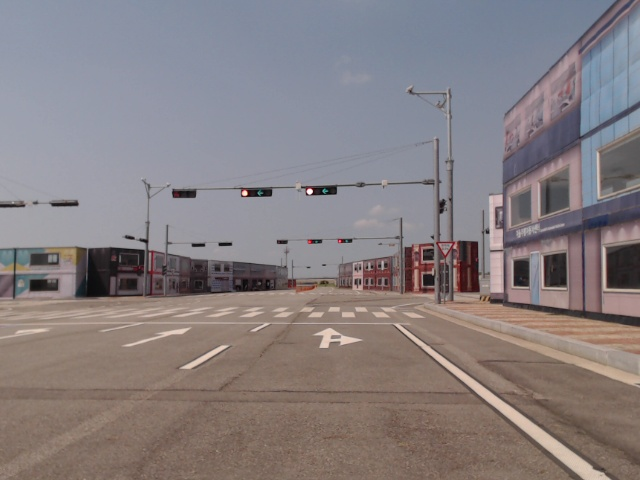left_green_4: (306, 187, 337, 196), (242, 190, 273, 197), (308, 240, 322, 244), (338, 239, 352, 243)
